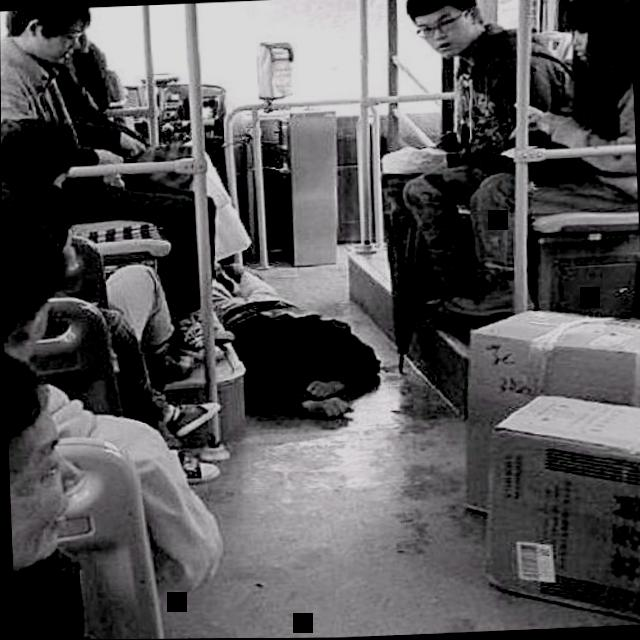Fall-Detected: (169, 242, 388, 432)
